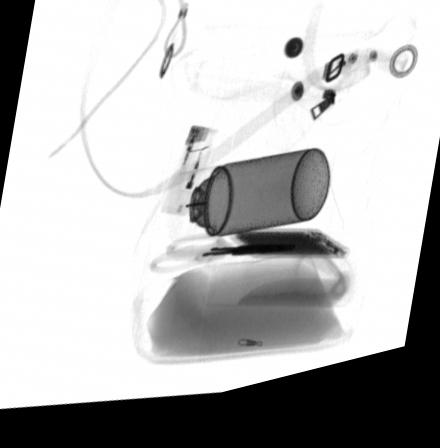Lighter: (159, 131, 225, 227)
Powerbank: (226, 241, 350, 276)
Scissors: (146, 242, 296, 281)
Sprayer: (167, 163, 329, 253)
